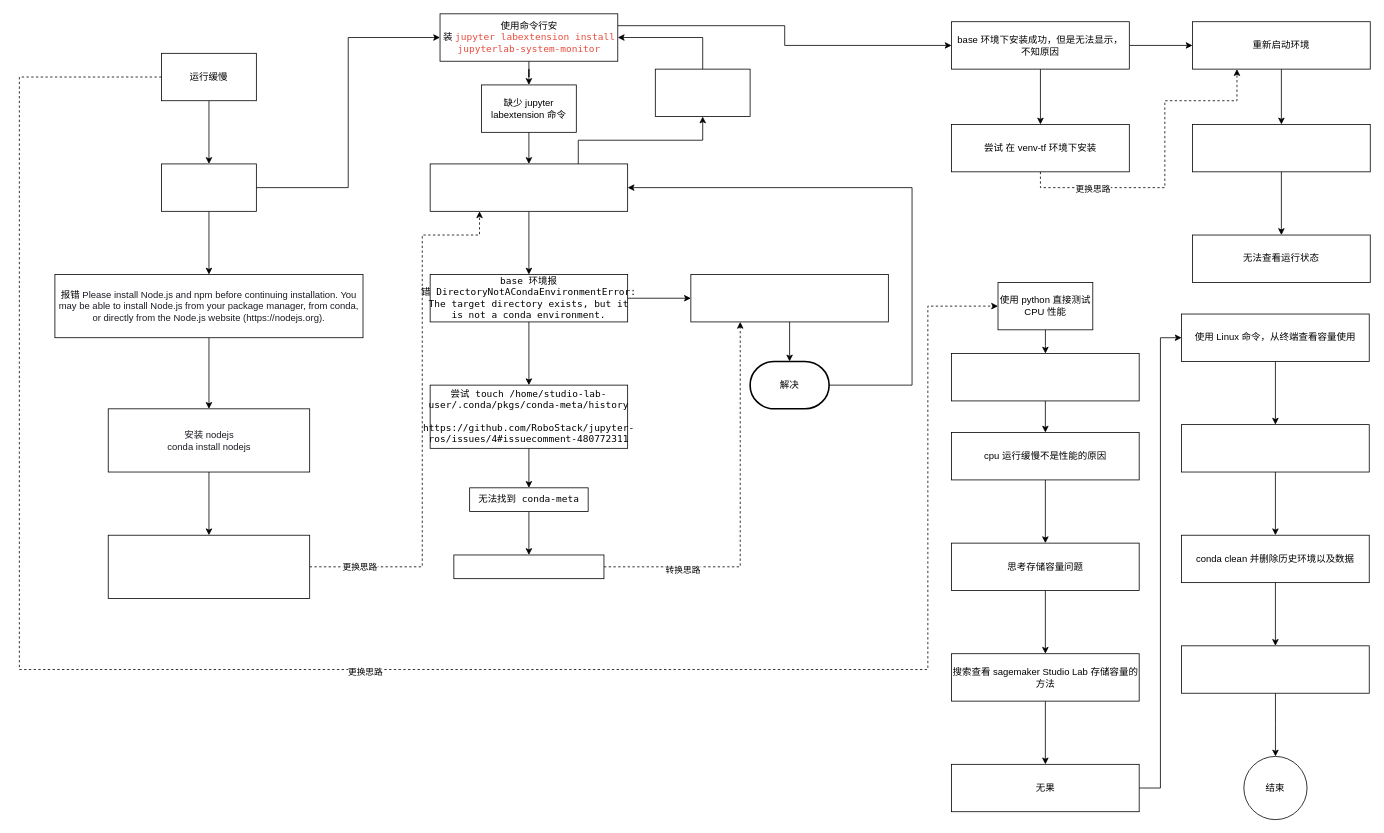
Some shapes in this 1384 by 833 pixel diagram are drawn without their labels. Each missing label, with the centre of its shape:
"conda create -n base" goes at (x=789, y=298).
"conda install -c conda-forge jupyterlab" goes at (x=528, y=187).
"conda install nodejs" goes at (x=702, y=92).
"仍然报错 无法找到 nodejs" goes at (x=208, y=566).
"发现 单核/多核性能都高于 colab" goes at (x=1045, y=377).
"可以成功运行，并发现状态栏会显示服务器状态" goes at (x=1275, y=669).
"可以运行，但只能查看内存 Kernel usage details are not available" goes at (x=1281, y=148).
"在 wsl 上模拟 conda 环境" goes at (x=528, y=566).
"安装性能监控插件 jupyterlab-system-monitor" goes at (x=208, y=187).
"已经使用了 24 GB，超出限额" goes at (x=1275, y=448).
